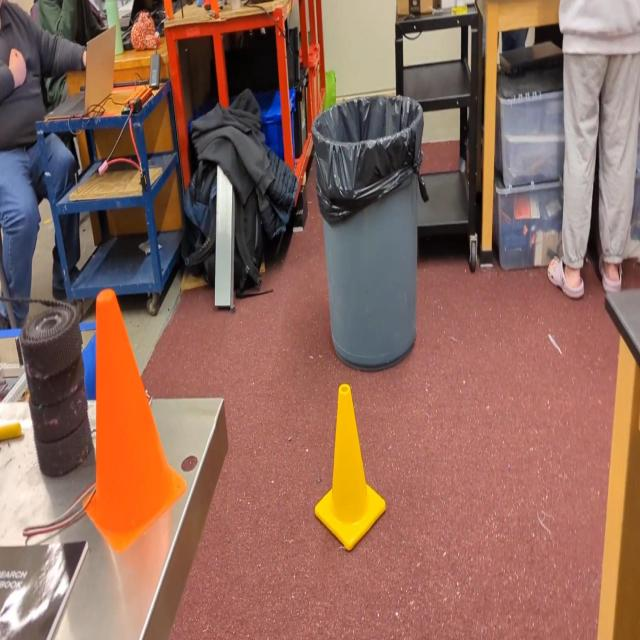frc_cone: (314, 381, 386, 554)
